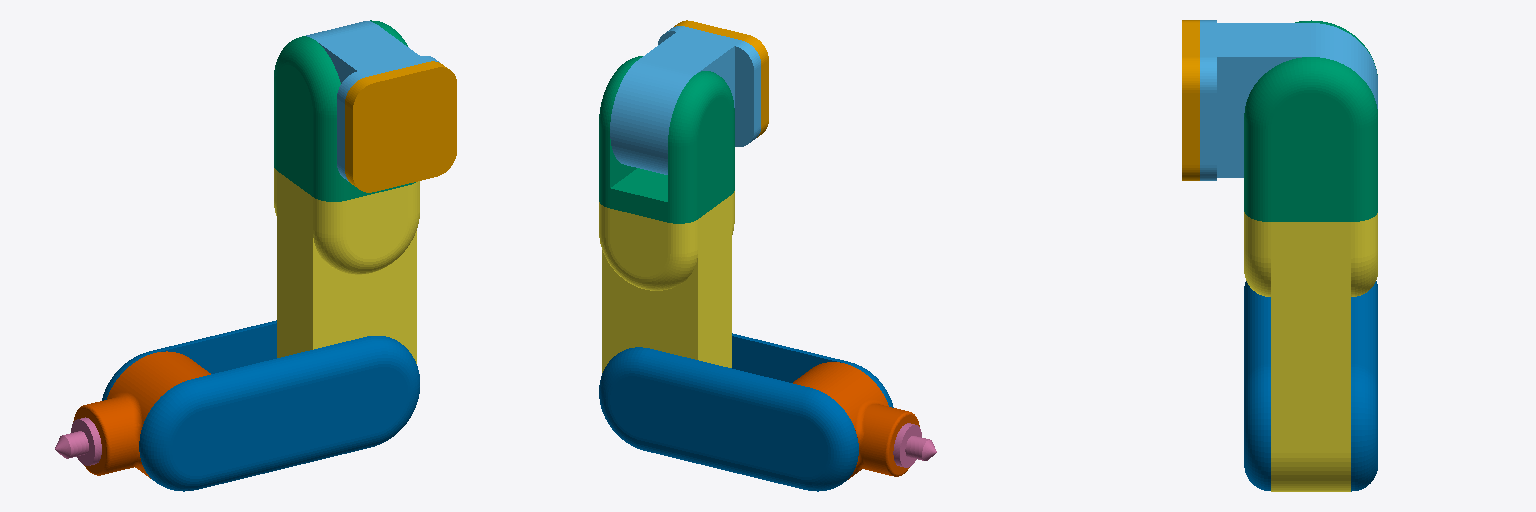
The robot description file, URDF, robot "test_arm":
<?xml version="1.0" encoding="utf-8"?>
<robot name="test_arm">

    <!-- ================= BASE ================= -->
    <link name="base_link">
        <visual>
            <origin xyz="0 0 0" rpy="0 0 0"/>
            <geometry>
                <mesh filename="meshes/base.stl" scale="0.001 0.001 0.001"/>
            </geometry>
        </visual>
        <collision>
            <origin xyz="0 0 0" rpy="0 0 0"/>
            <geometry>
                <mesh filename="meshes/base.stl" scale="0.001 0.001 0.001"/>
            </geometry>
        </collision>
    </link>

    <!-- ================= LINKS ================= -->
    <link name="link1">
        <visual>
            <origin xyz="0 0 -0.01" rpy="1.57079632679 0 0"/>
            <geometry>
                <mesh filename="meshes/link1.stl" scale="0.001 0.001 0.001"/>
            </geometry>
        </visual>
        <collision>
            <origin xyz="0 0 -0.01" rpy="1.57079632679 0 0"/>
            <geometry>
                <mesh filename="meshes/link1.stl" scale="0.001 0.001 0.001"/>
            </geometry>
        </collision>
    </link>

    <link name="link2">
        <visual>
            <origin xyz="-0.0575 0 -0.0225" rpy="3.14159265359 -1.57079632679 0"/>
            <geometry>
                <mesh filename="meshes/link2.stl" scale="0.001 0.001 0.001"/>
            </geometry>
        </visual>
        <collision>
            <origin xyz="-0.0575 0 -0.0225" rpy="3.14159265359 -1.57079632679 0"/>
            <geometry>
                <mesh filename="meshes/link2.stl" scale="0.001 0.001 0.001"/>
            </geometry>
        </collision>
    </link>

    <link name="link3">
        <visual>
            <origin xyz="0 0 0.18" rpy="3.14159265359 0 0"/>
            <geometry>
                <mesh filename="meshes/link3.stl" scale="0.001 0.001 0.001"/>
            </geometry>
        </visual>
        <collision>
            <origin xyz="0 0 0.18" rpy="3.14159265359 0 0"/>
            <geometry>
                <mesh filename="meshes/link3.stl" scale="0.001 0.001 0.001"/>
            </geometry>
        </collision>
    </link>

    <link name="link4">
        <visual>
            <origin xyz="-0.1625 0 -0.0225" rpy="1.57079632679 0 1.57079632679"/>
            <geometry>
                <mesh filename="meshes/link4.stl" scale="0.001 0.001 0.001"/>
            </geometry>
        </visual>
        <collision>
            <origin xyz="-0.1625 0 -0.0225" rpy="1.57079632679 0 1.57079632679"/>
            <geometry>
                <mesh filename="meshes/link4.stl" scale="0.001 0.001 0.001"/>
            </geometry>
        </collision>
    </link>

    <link name="link5">
        <visual>
            <origin xyz="0 0 0.0225" rpy="-1.57079632679 0 0"/>
            <geometry>
                <mesh filename="meshes/link5.stl" scale="0.001 0.001 0.001"/>
            </geometry>
        </visual>
        <collision>
            <origin xyz="0 0 0.0225" rpy="-1.57079632679 0 0"/>
            <geometry>
                <mesh filename="meshes/link5.stl" scale="0.001 0.001 0.001"/>
            </geometry>
        </collision>
    </link>

    <link name="link6">
        <visual>
            <origin xyz="0 0 0" rpy="0 0 0"/>
            <geometry>
                <mesh filename="meshes/link6.stl" scale="0.001 0.001 0.001"/>
            </geometry>
        </visual>
        <collision>
            <origin xyz="0 0 0" rpy="0 0 0"/>
            <geometry>
                <mesh filename="meshes/link6.stl" scale="0.001 0.001 0.001"/>
            </geometry>
        </collision>
    </link>

<!-- ================= JOINTS ================= -->

<joint name="joint_base" type="revolute">
    <origin xyz="0 0.01 0" rpy="-1.57079632679 0 0"/>
    <parent link="base_link"/>
    <child link="link1"/>
    <axis xyz="0 0 1"/>
    <limit lower="-3.14" upper="3.14" effort="10" velocity="2.0"/>
</joint>

<joint name="joint1" type="revolute">
    <origin xyz="0.0225 0 0.0625" rpy="-1.57079632679 0 -1.57079632679"/>
    <parent link="link1"/>
    <child link="link2"/>
    <axis xyz="0 0 1"/>
    <limit lower="-3.14" upper="3.14" effort="10" velocity="2.0"/>
</joint>

<joint name="joint2" type="revolute">
    <origin xyz="-0.0575 0 -0.0225" rpy="0 -1.57079632679 0"/>
    <parent link="link2"/>
    <child link="link3"/>
    <axis xyz="0 0 1"/>
    <limit lower="-1.57" upper="1.57" effort="10" velocity="2.0"/>
</joint>

<joint name="joint3" type="revolute">
    <origin xyz="0 -0.0225 0.1425" rpy="1.57079632679 0 0"/>
    <parent link="link3"/>
    <child link="link4"/>
    <axis xyz="0 0 1"/>
    <limit lower="-3.14" upper="3.14" effort="10" velocity="2.0"/>
</joint>

<joint name="joint4" type="revolute">
    <origin xyz="-0.125 0 0" rpy="3.14159265359 0 0"/>
    <parent link="link4"/>
    <child link="link5"/>
    <axis xyz="0 0 1"/>
    <limit lower="-3.14" upper="3.14" effort="10" velocity="2.0"/>
</joint>

<joint name="joint5" type="revolute">
    <origin xyz="-0.06 0 0.0225" rpy="-1.57079632679 0 1.57079632679"/>
    <parent link="link5"/>
    <child link="link6"/>
    <axis xyz="0 0 1"/>
    <limit lower="-3.14" upper="3.14" effort="10" velocity="2.0"/>
</joint>

</robot>

--- Facts derived from the render (not from the file) ---
Views: 3 orthographic renders of the robot side by side, from view 1: azimuth 30°, elevation 25°; view 2: azimuth 150°, elevation 25°; view 3: azimuth 270°, elevation 25°.
Model test_arm with 7 links and 6 joints (6 revolute), rooted at base_link, posed all joints at 0.
Visible links, largest first — view 1: link4, link3, base_link, link2, link5, link1, link6; view 2: link4, link3, link2, link1, link5, base_link, link6; view 3: link3, link2, link1, link4, base_link.
Boxes of the visible links, left/top/right/bottom form: link4: left=102, top=320, right=419, bottom=491; link3: left=274, top=168, right=419, bottom=363; base_link: left=345, top=61, right=456, bottom=192; link2: left=274, top=20, right=415, bottom=201; link5: left=73, top=351, right=210, bottom=478; link1: left=306, top=21, right=439, bottom=181; link6: left=55, top=417, right=101, bottom=465; link4: left=599, top=333, right=893, bottom=491; link3: left=599, top=191, right=734, bottom=372; link2: left=599, top=56, right=734, bottom=223; link1: left=610, top=26, right=760, bottom=174; link5: left=793, top=362, right=919, bottom=479; base_link: left=674, top=20, right=768, bottom=137; link6: left=893, top=423, right=936, bottom=467; link3: left=1244, top=212, right=1377, bottom=491; link2: left=1244, top=20, right=1377, bottom=221; link1: left=1200, top=20, right=1377, bottom=180; link4: left=1244, top=281, right=1377, bottom=491; base_link: left=1182, top=20, right=1199, bottom=180.
Size in the robot's own frame: 0.2475 by 0.11 by 0.275 metres.
Meshes: 7 distinct files referenced, 7 mesh visuals loaded (7 binary STL).